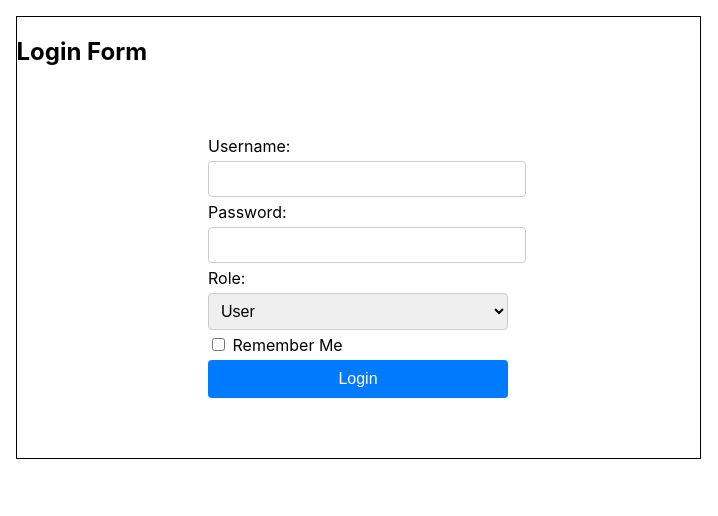
Test: Login Form › should show error when we submit the form without filling values
Click the button "Login" at [358, 379], box [208,360,508,398]
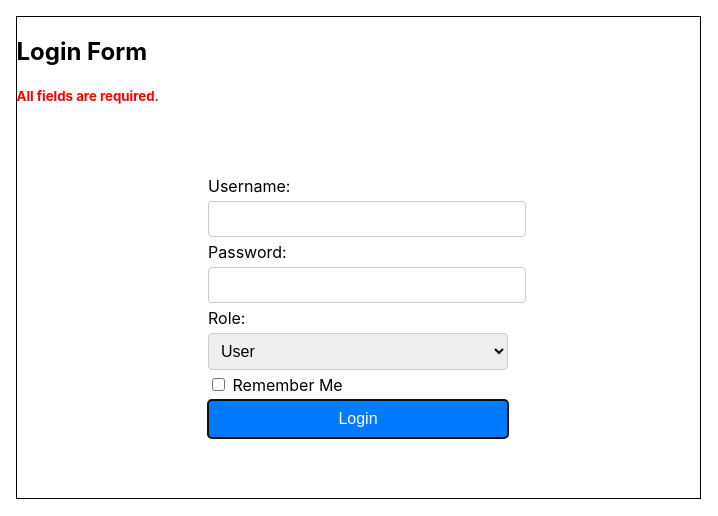
Now the heading "All fields are required." is shown, box [16,88,159,104]
